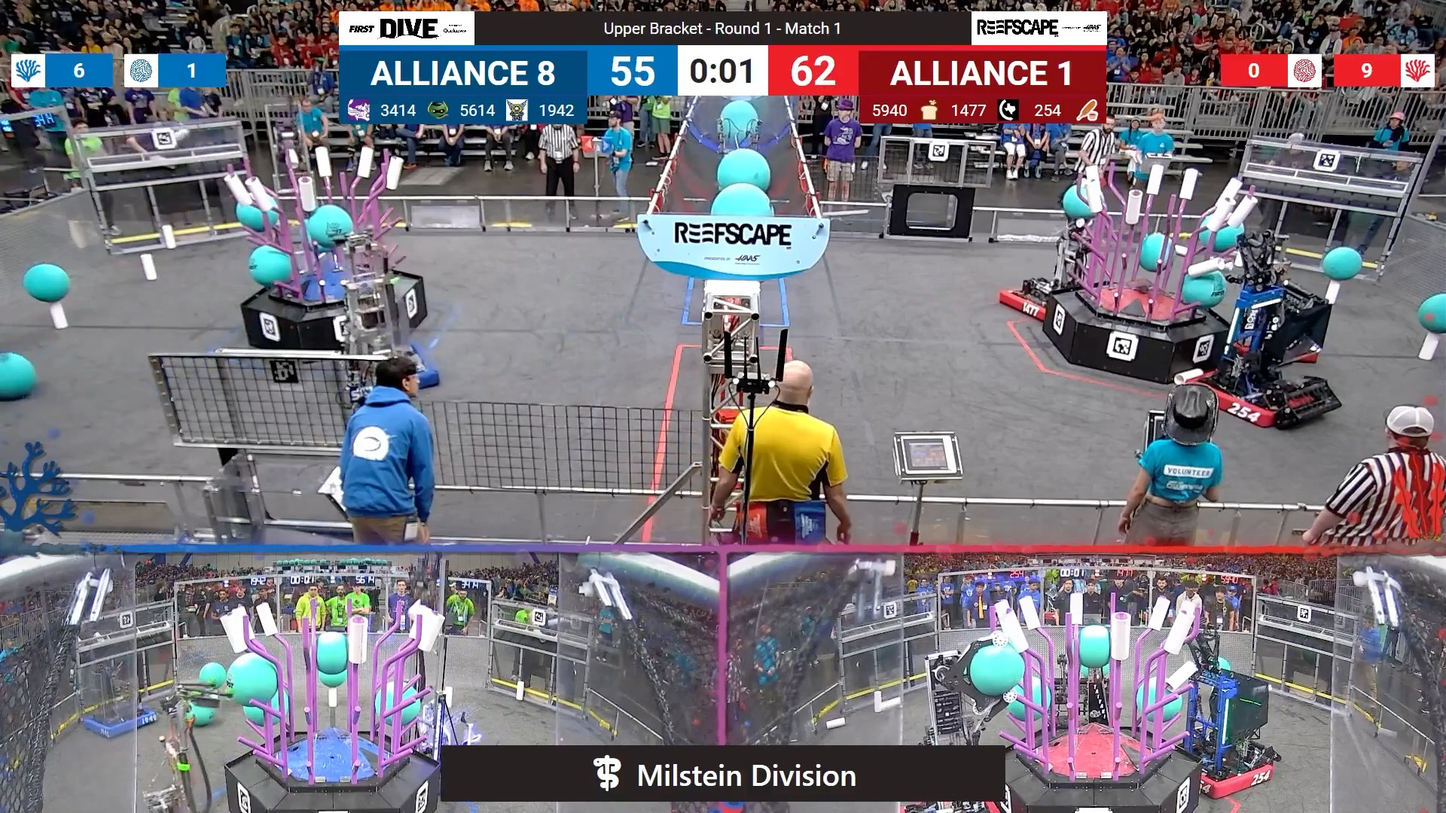bumpers: (1188, 365, 1348, 428), (1159, 739, 1282, 803), (329, 343, 453, 398), (993, 273, 1076, 323), (75, 700, 166, 744)
